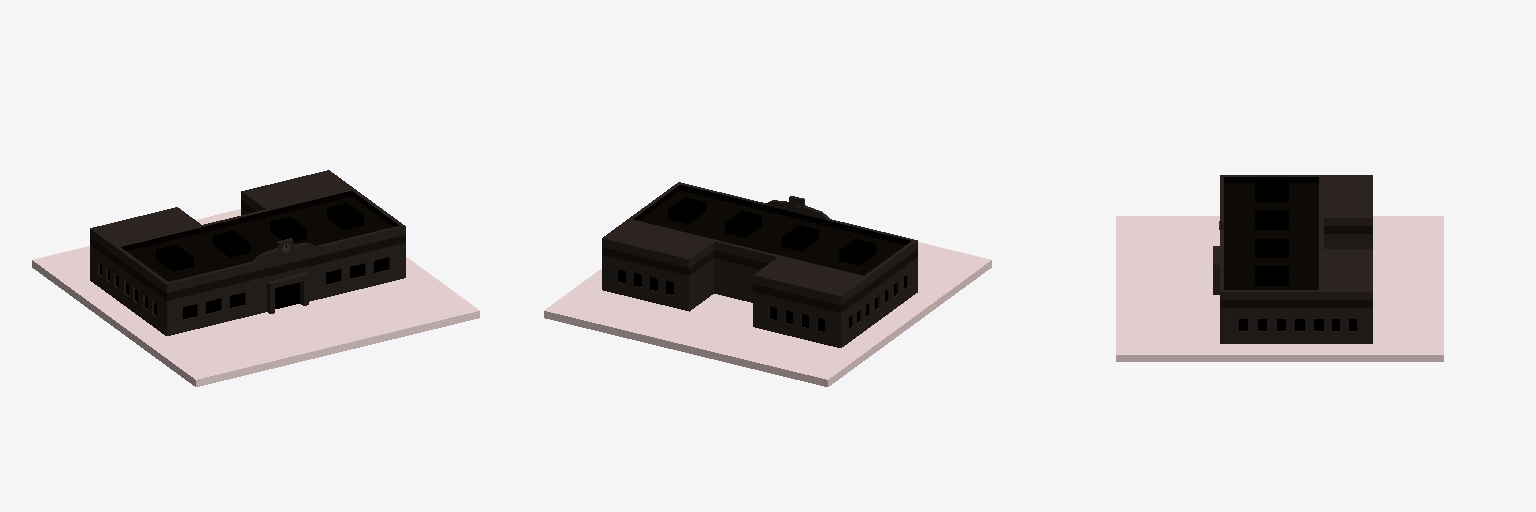
File: OficinaDeTrabajadores.obj
The picture shows the model from 3 angles: view 1: azimuth 30°, elevation 25°; view 2: azimuth 150°, elevation 25°; view 3: azimuth 270°, elevation 25°; orthographic projection.
Parts seen in each view (by area): view 1: Floor, Building MainBuilding MainColor MainWalls OuterWalls, Building MainBuilding Rooftop MainColor, Line Building MainBuilding, Building MainBuilding MainColor InnerRooftopWalls MainWalls, MainBuilding WindowSet1, MainBuilding VentilationSystem OutsideVent Ventilation4, MainBuilding OutsideVent Ventilation1 VentilationSystem, MainBuilding VentilationSystem OutsideVent Ventilation3, MainBuilding VentilationSystem OutsideVent Ventilation2, MainBuilding WindowSet2, MainBuilding BuildingEntrance; view 2: Building MainBuilding MainColor MainWalls OuterWalls, Floor, Building MainBuilding Rooftop MainColor, Line Building MainBuilding, Building MainBuilding MainColor InnerRooftopWalls MainWalls, MainBuilding OutsideVent Ventilation1 VentilationSystem, MainBuilding VentilationSystem OutsideVent Ventilation4, MainBuilding VentilationSystem OutsideVent Ventilation2, MainBuilding VentilationSystem OutsideVent Ventilation3, MainBuilding WindowSet1; view 3: Floor, Building MainBuilding MainColor MainWalls OuterWalls, Building MainBuilding Rooftop MainColor, Line Building MainBuilding, MainBuilding WindowSet2, MainBuilding OutsideVent Ventilation1 VentilationSystem, MainBuilding VentilationSystem OutsideVent Ventilation4, MainBuilding VentilationSystem OutsideVent Ventilation2, MainBuilding VentilationSystem OutsideVent Ventilation3, Building MainBuilding MainColor InnerRooftopWalls MainWalls.
Boxes of the visible parts, <box> form: Floor: <box>32,209,479,386</box>; Building MainBuilding MainColor MainWalls OuterWalls: <box>90,170,405,335</box>; Building MainBuilding Rooftop MainColor: <box>127,197,392,281</box>; Line Building MainBuilding: <box>90,200,405,300</box>; Building MainBuilding MainColor InnerRooftopWalls MainWalls: <box>121,191,399,250</box>; MainBuilding WindowSet1: <box>100,263,244,318</box>; MainBuilding VentilationSystem OutsideVent Ventilation4: <box>156,245,193,271</box>; MainBuilding OutsideVent Ventilation1 VentilationSystem: <box>327,203,363,229</box>; MainBuilding VentilationSystem OutsideVent Ventilation3: <box>213,231,249,257</box>; MainBuilding VentilationSystem OutsideVent Ventilation2: <box>270,217,306,241</box>; MainBuilding WindowSet2: <box>326,257,388,284</box>; MainBuilding BuildingEntrance: <box>275,282,299,308</box>; Building MainBuilding MainColor MainWalls OuterWalls: <box>602,182,917,347</box>; Floor: <box>544,242,991,386</box>; Building MainBuilding Rooftop MainColor: <box>639,191,905,275</box>; Line Building MainBuilding: <box>602,247,917,312</box>; Building MainBuilding MainColor InnerRooftopWalls MainWalls: <box>633,185,910,244</box>; MainBuilding OutsideVent Ventilation1 VentilationSystem: <box>668,197,705,223</box>; MainBuilding VentilationSystem OutsideVent Ventilation4: <box>839,239,875,265</box>; MainBuilding VentilationSystem OutsideVent Ventilation2: <box>725,211,761,237</box>; MainBuilding VentilationSystem OutsideVent Ventilation3: <box>782,225,818,251</box>; MainBuilding WindowSet1: <box>770,276,906,331</box>; Floor: <box>1116,216,1443,361</box>; Building MainBuilding MainColor MainWalls OuterWalls: <box>1213,175,1372,343</box>; Building MainBuilding Rooftop MainColor: <box>1224,183,1318,289</box>; Line Building MainBuilding: <box>1220,226,1372,307</box>; MainBuilding WindowSet2: <box>1239,319,1356,330</box>; MainBuilding OutsideVent Ventilation1 VentilationSystem: <box>1255,266,1288,285</box>; MainBuilding VentilationSystem OutsideVent Ventilation4: <box>1255,183,1288,202</box>; MainBuilding VentilationSystem OutsideVent Ventilation2: <box>1255,239,1288,257</box>; MainBuilding VentilationSystem OutsideVent Ventilation3: <box>1255,211,1288,229</box>; Building MainBuilding MainColor InnerRooftopWalls MainWalls: <box>1224,177,1318,182</box>.
Size of the model in its own units: 200 by 49.41 by 200.